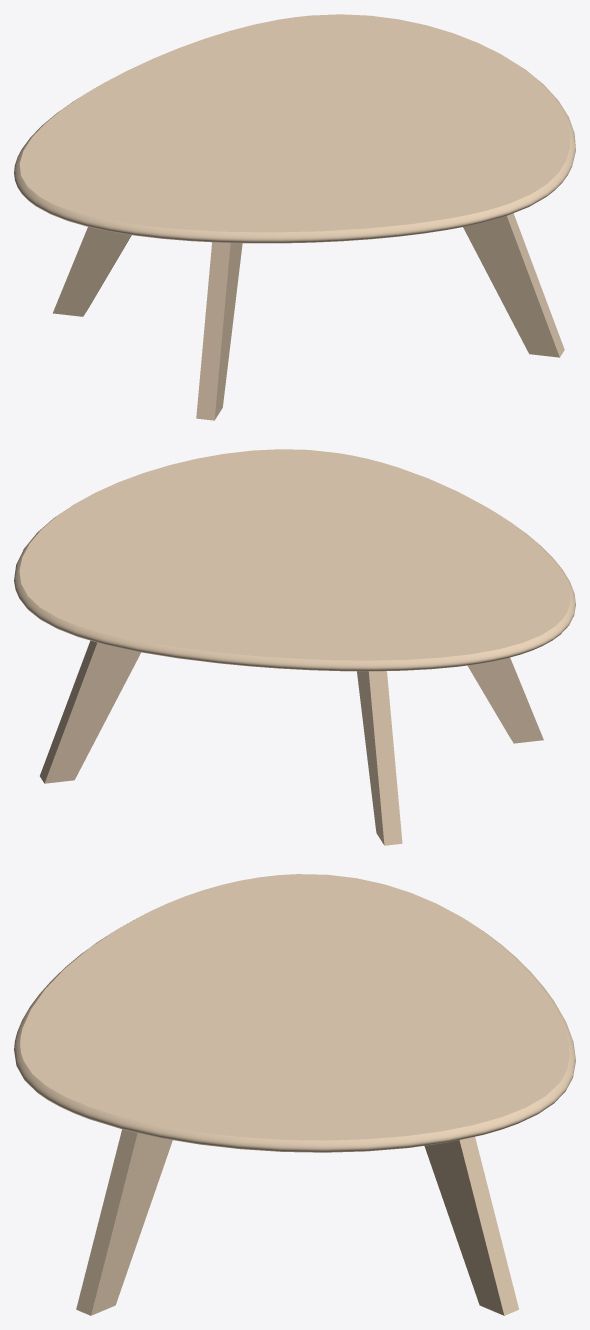
The model's file is 411_ローテーブル.glb.
3 views of the same model, one above another, from view 1: azimuth 30°, elevation 25°; view 2: azimuth 150°, elevation 25°; view 3: azimuth 270°, elevation 25° (orthographic). The views are drawn at different scales.
Visible parts, largest first — view 1: 411_ローテーブル; view 2: 411_ローテーブル; view 3: 411_ローテーブル.
Boxes of the visible parts, box(x1,y1,x2,y2) form: 411_ローテーブル: box(14, 14, 575, 420); 411_ローテーブル: box(14, 449, 575, 845); 411_ローテーブル: box(14, 874, 575, 1315).
Bounding box in the file's own units: 0.9181 × 0.33 × 0.8026.
